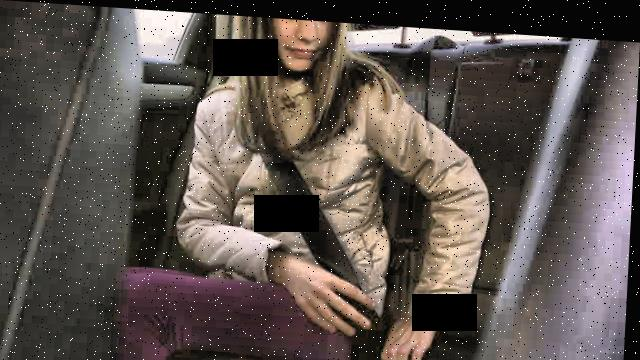seatbelt: (215, 54, 417, 353)
